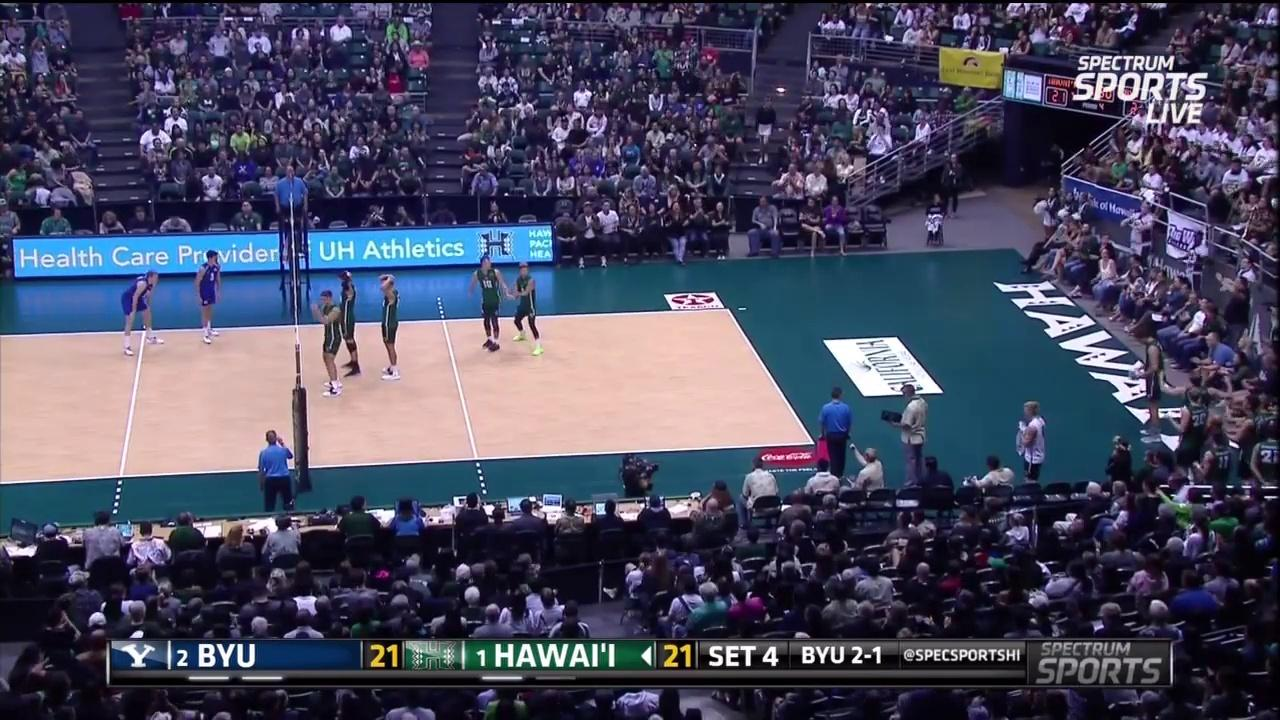player: (1130, 330, 1166, 439), (122, 269, 160, 359), (333, 269, 363, 381), (508, 263, 541, 355), (475, 256, 505, 350), (318, 288, 344, 391), (375, 275, 401, 376), (196, 251, 223, 343)
refree: (813, 384, 856, 479), (255, 431, 296, 511), (274, 161, 310, 251)
